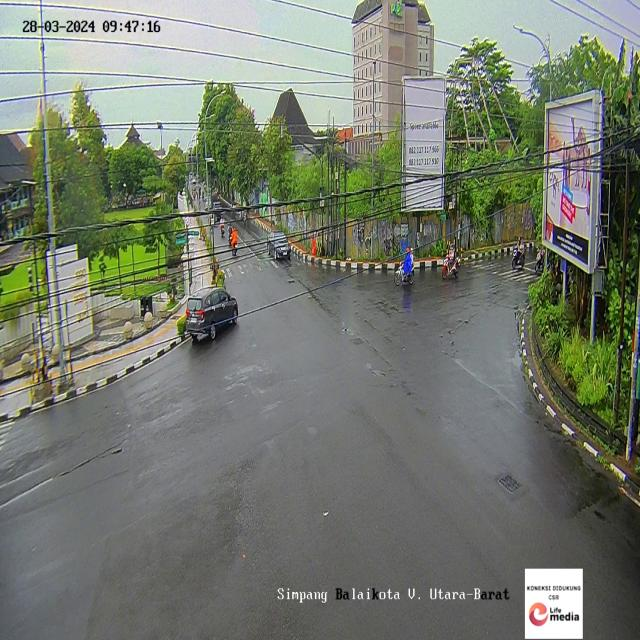car: (184, 284, 240, 342), (266, 228, 291, 262)
motorcycle: (394, 248, 418, 286), (441, 243, 461, 281), (510, 238, 525, 272), (232, 223, 238, 258), (220, 214, 226, 240), (226, 222, 232, 244)
